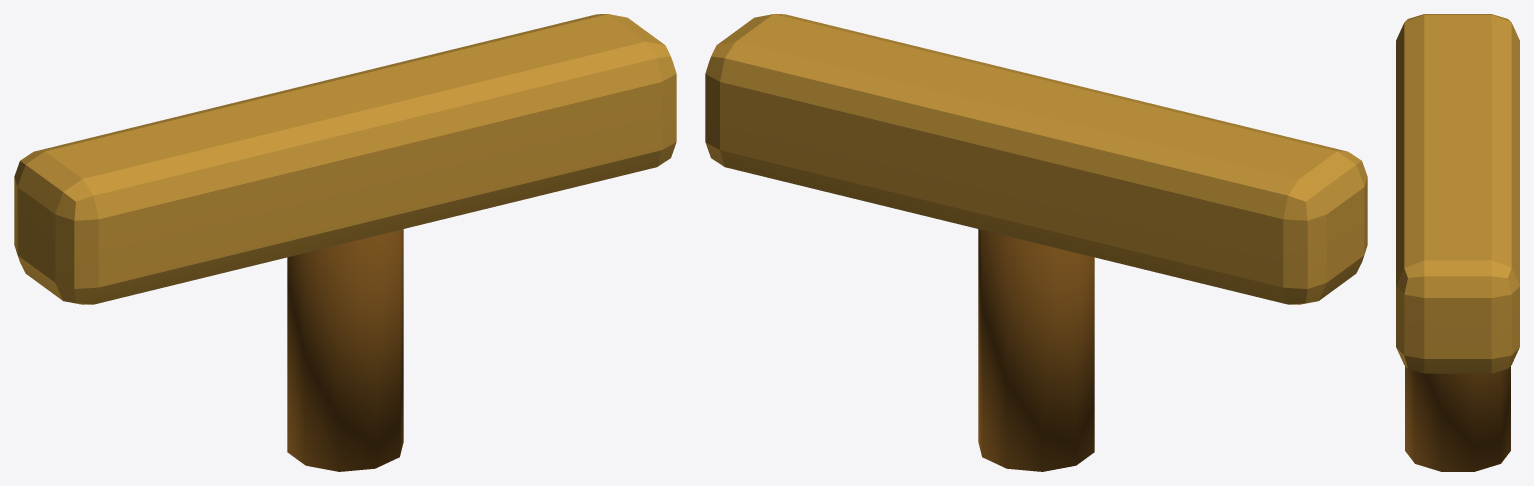
Rendered from cauldron_tap_handle.glb.
The picture shows the model from 3 angles, left to right: view 1: azimuth 30°, elevation 25°; view 2: azimuth 150°, elevation 25°; view 3: azimuth 270°, elevation 25°; orthographic projection. The views are drawn at different scales.
Visible parts, largest first — view 1: cauldron_tap_handle; view 2: cauldron_tap_handle; view 3: cauldron_tap_handle.
Part boxes in pixels (x1,y1,x2,y2): cauldron_tap_handle: [14, 14, 676, 471]; cauldron_tap_handle: [705, 14, 1367, 471]; cauldron_tap_handle: [1396, 14, 1519, 471].
Bounding box in the file's own units: 0.18 × 0.0975 × 0.035.
